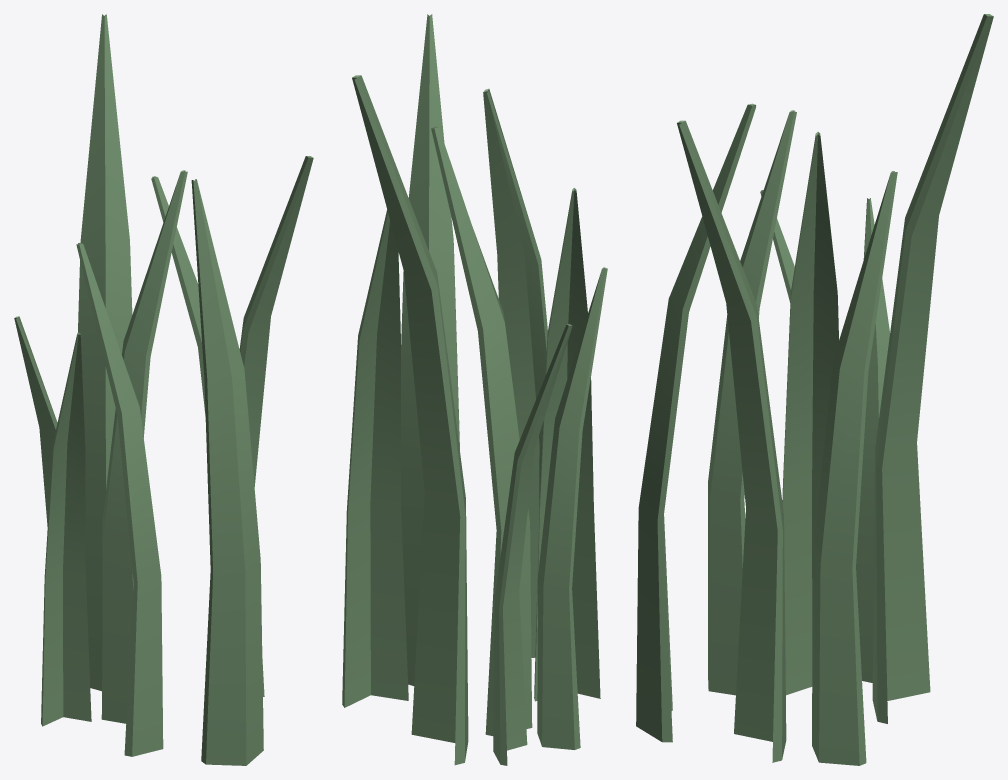
Rendered from Cimen.fbx.
3 views of the same model, side by side, from view 1: azimuth 30°, elevation 25°; view 2: azimuth 150°, elevation 25°; view 3: azimuth 270°, elevation 25° (orthographic). The views are drawn at different scales.
Parts seen in each view (by area): view 1: Plane.001; view 2: Plane.001; view 3: Plane.001.
Part boxes in pixels (box(x1,y1,x2,y2)): Plane.001: box(14, 14, 313, 765); Plane.001: box(342, 14, 607, 765); Plane.001: box(636, 14, 993, 765).
Size of the model in its own units: 52.83 by 149 by 67.17.
